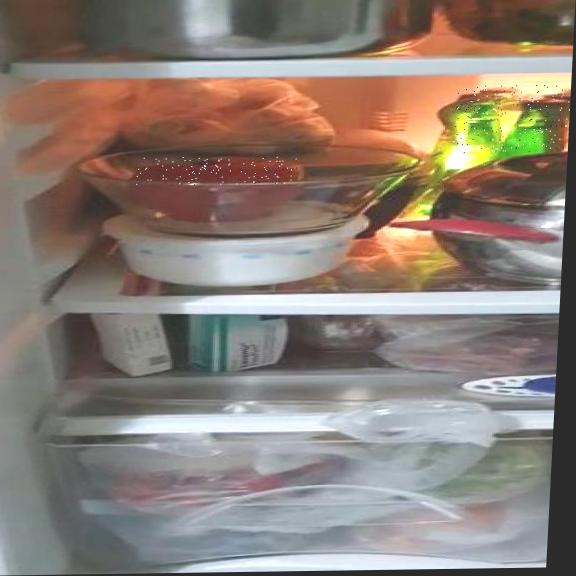mineral water: (452, 84, 571, 152)
tomato: (135, 155, 299, 186)
